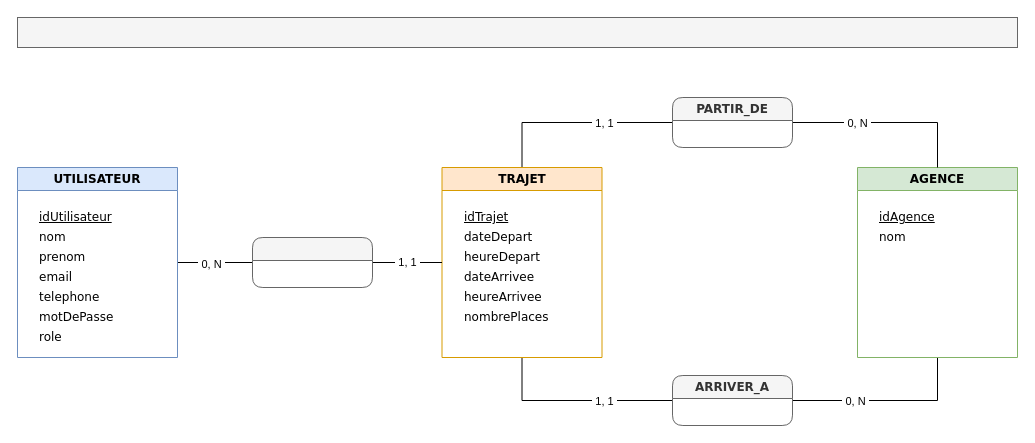
Some shapes in this 1035 by 443 pixel diagram are drawn without their labels. The shapes that lost their labels are listed below. From the top down, each one's centre as x and y in pixels, then its label:
At point (517, 32): "MCD - Modèle Conceptuel de Données - Touche pas au klaxon".
At point (312, 262): "PROPOSER".
